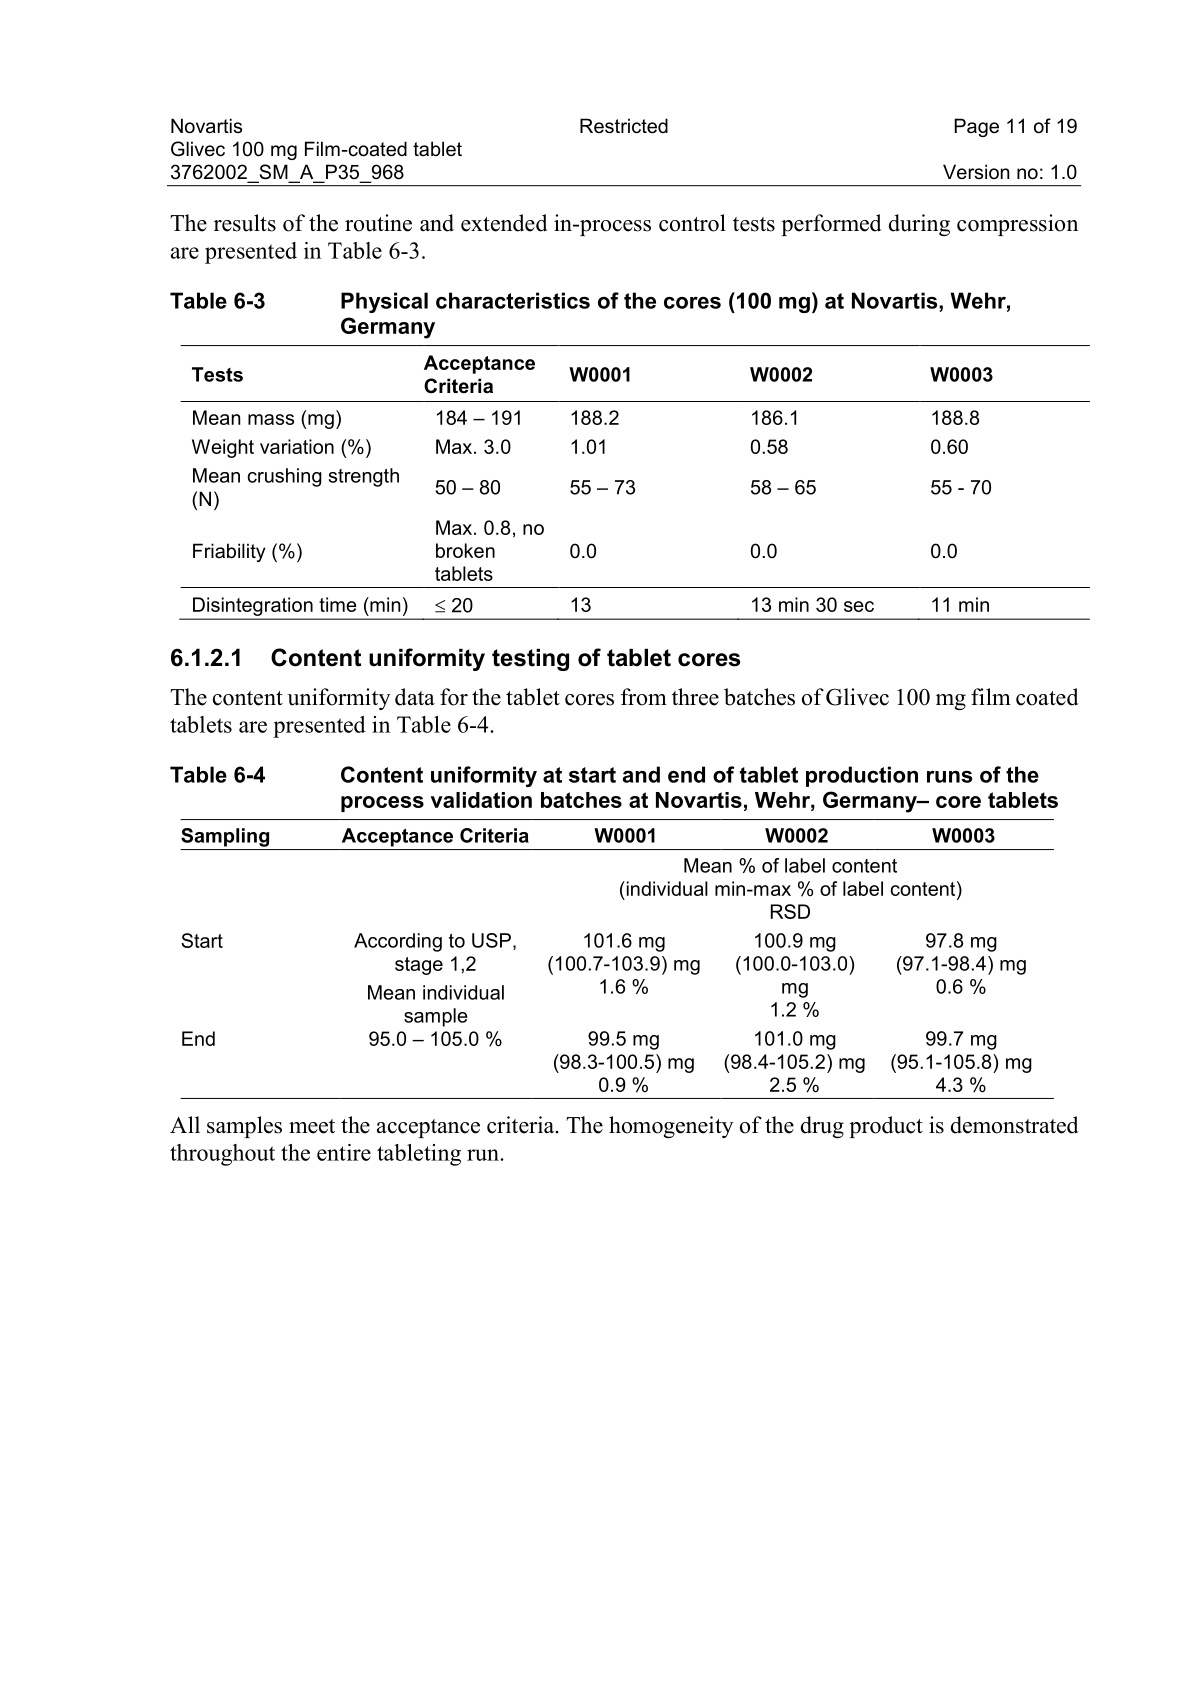partial_lined: (180, 343, 1090, 618)
partial_lined_merged_cells: (180, 818, 1054, 1099)
